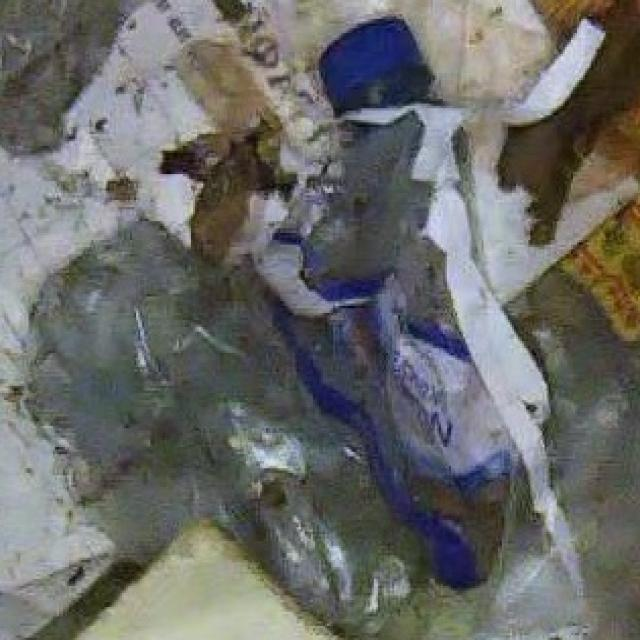litter: (314, 5, 434, 116)
